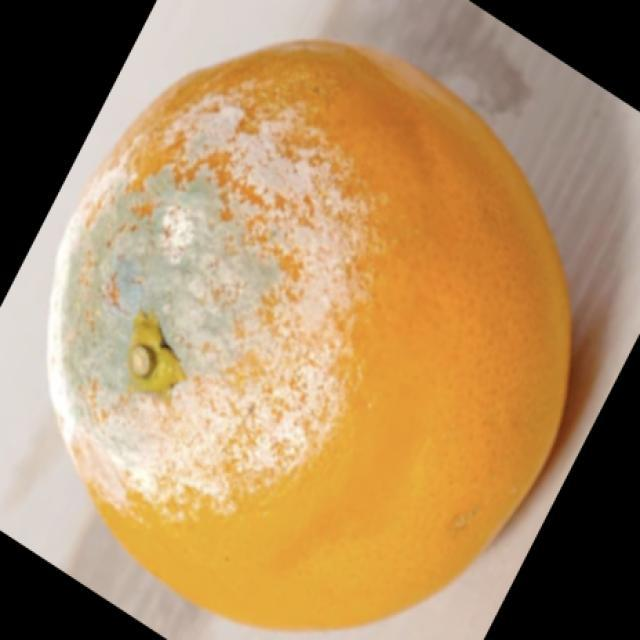sedikit-busuk: (50, 43, 569, 623)
